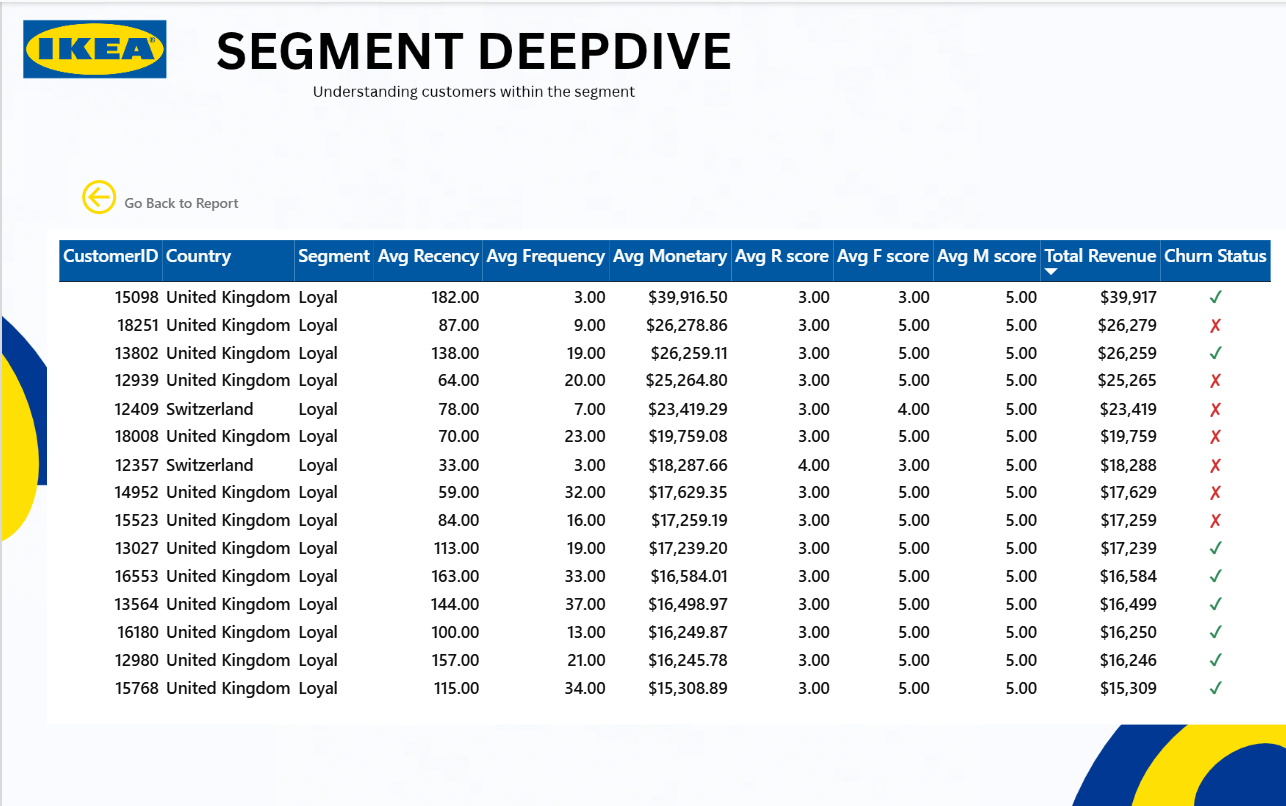

Layout of this report page (visuals, bound fields, positions):
{"tool":"powerbi","page":{"name":"Segment Drillthrough Page","canvas":[1750,1100],"ordinal":3},"visuals":[{"type":"tableEx","fields":{"Values":["Sheet1.CustomerID","Sheet1.Country","Sheet1.Segment","Avg(Sheet1.Recency)","Avg(Sheet1.Frequency)","Avg(Sheet1.Monetary)","Avg(Sheet1.R score)","Avg(Sheet1.F score)","Avg(Sheet1.M score)","Sheet1.Total Revenue","Sheet1.Churn Status"]},"box":[60.8,308.7,1689.2,673.3],"z":0},{"type":"actionButton","box":[80.8,236.5,100.5,53.2],"z":1000},{"type":"textbox","box":[166,260,167.5,27.6],"z":2000}]}

Visuals, with their boxes in screenshot pixels (x1, y1, x2, y2), scaled from the page's 1750x1100 canvas onto the 1286x806 screenshot:
tableEx - Sheet1.CustomerID x Sheet1.Country: [45,226,1285,720]
actionButton: [59,173,133,212]
textbox: [122,191,245,211]
